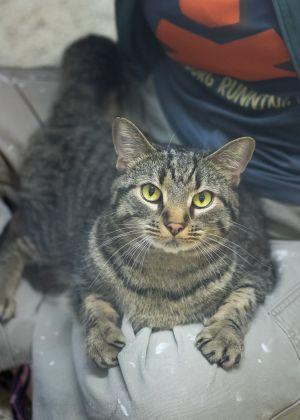bengal: (100, 101, 263, 291)
